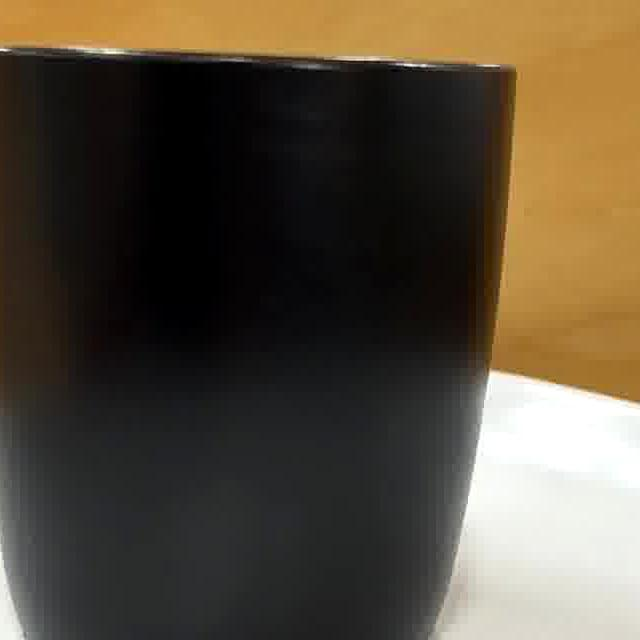cup: (0, 50, 511, 640)
